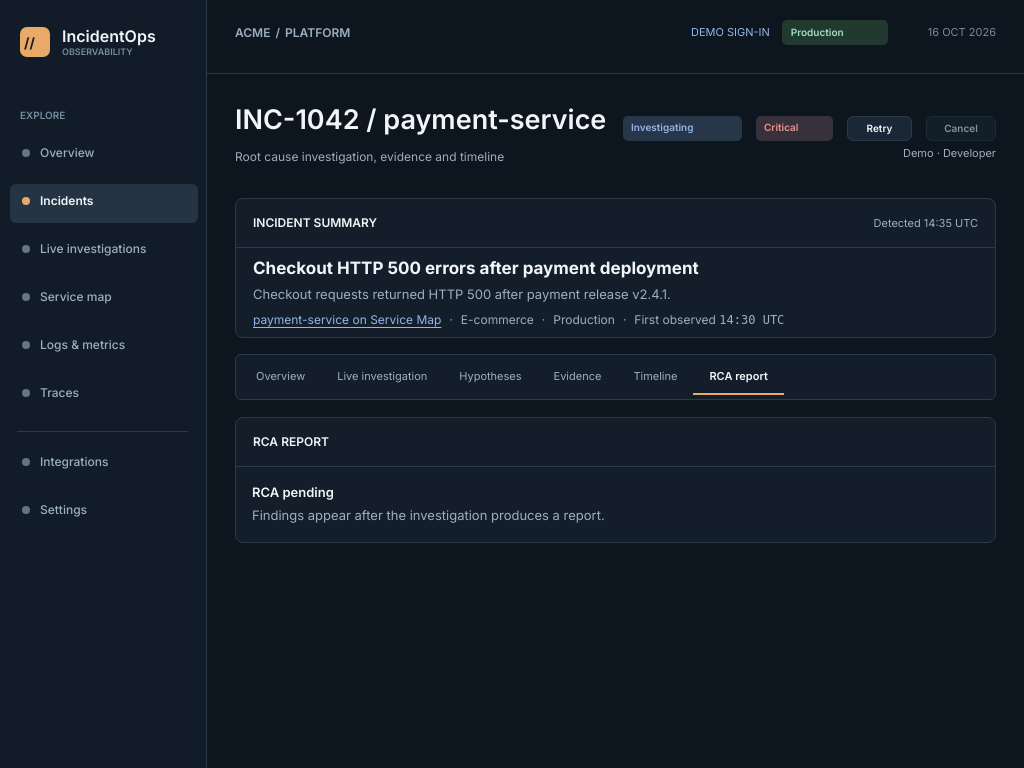
Incident Detail › can retry a failed demo run as Developer and renders genuine pending RCA
Expected: the button "Cancel" is disabled, [926,116,996,141]
Click the button "Retry" at (880, 128), box [847,116,912,141]
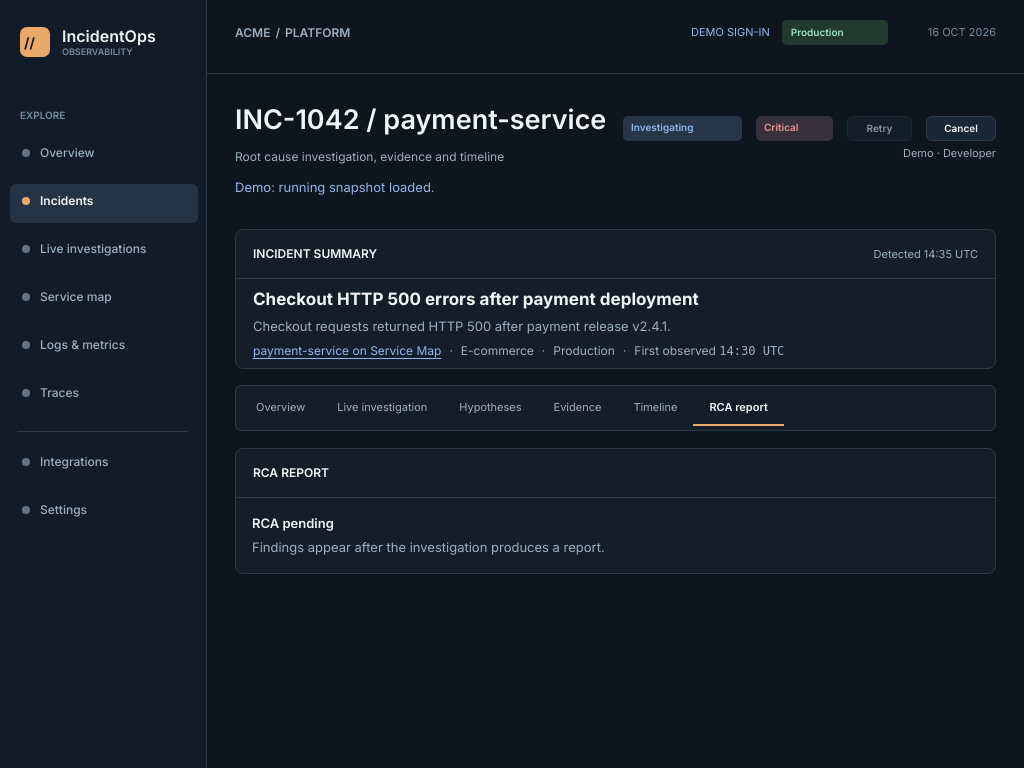
Expected: the button "Cancel" is enabled, [926,116,996,141]
